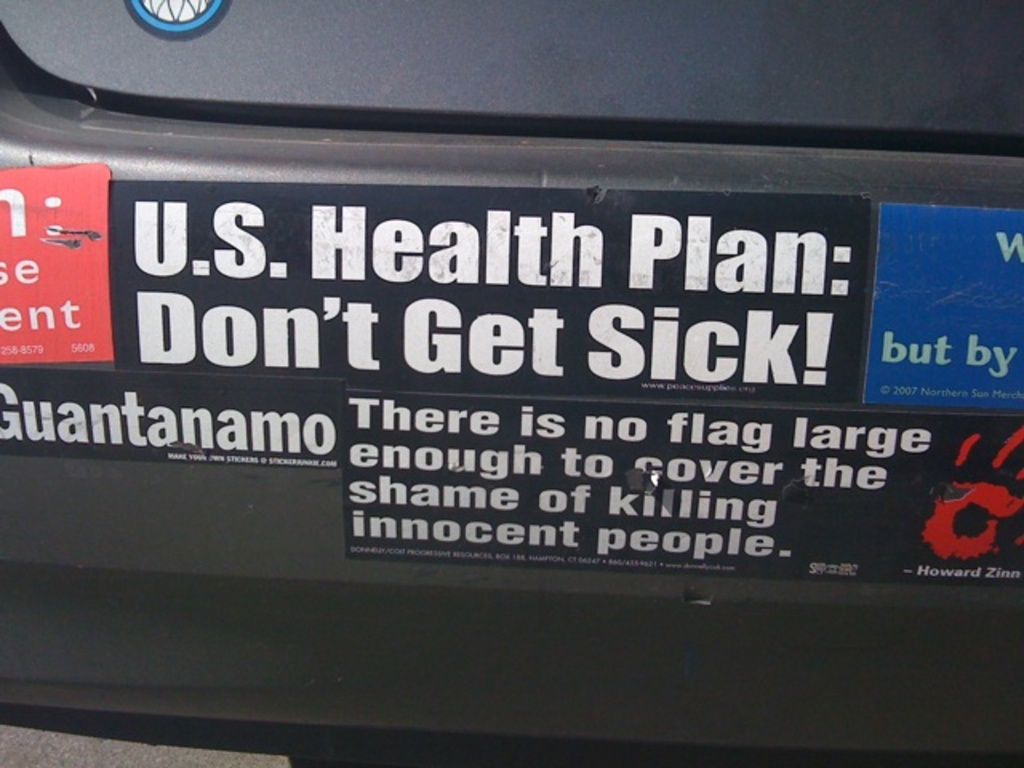Car: (0, 62, 1024, 670)
